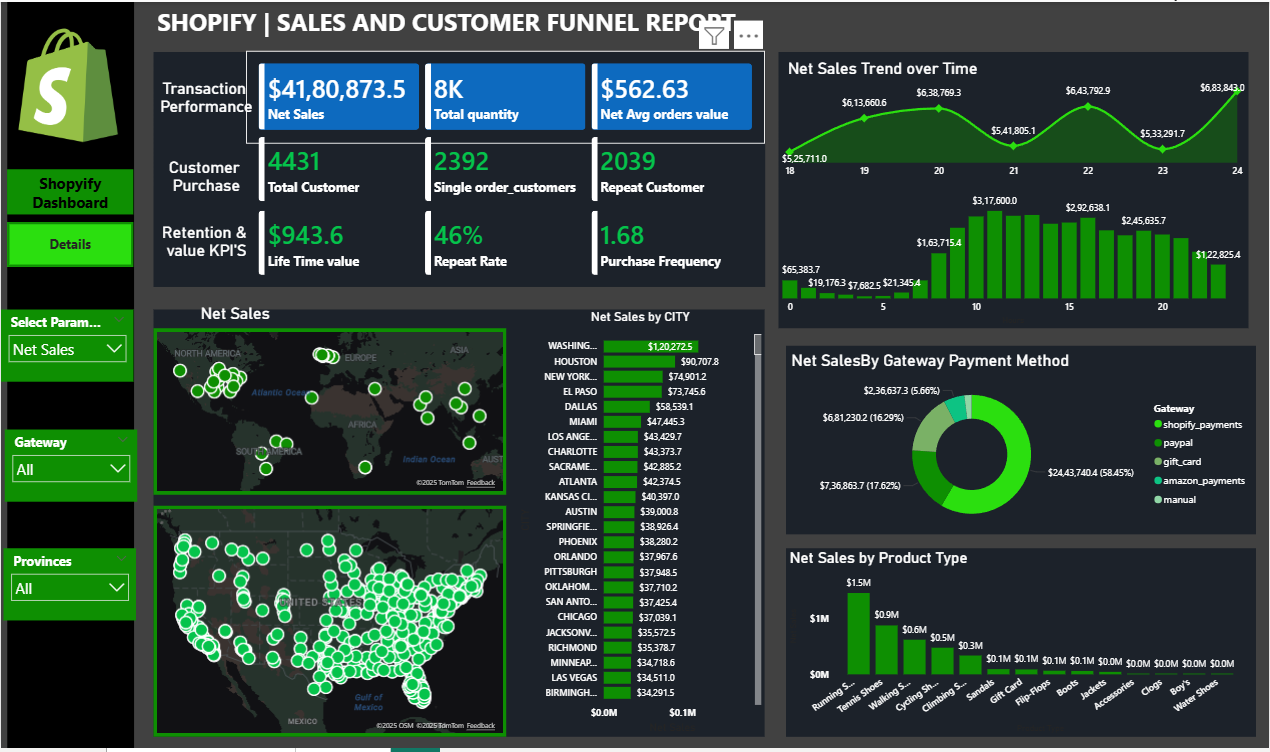

What the dashboard file says about the page in this screenshot:
{"tool":"powerbi","page":{"name":"Shopyify Dashboard","canvas":[1700,1000],"ordinal":0},"visuals":[{"type":"shape","box":[9.1,0,170,1000],"z":0},{"type":"textbox","box":[204.1,0,800.1,67.4],"z":1000},{"type":"shape","box":[204,67,820,315],"z":2000},{"type":"cardVisual","fields":{"Data":["AMeasure.Net Sales","AMeasure.Total quantity","AMeasure.Net Avg orders value"]},"box":[328,65.6,696.2,123.9],"z":3000},{"type":"card","fields":{"Values":["AMeasure.Transaction per"]},"box":[204.1,83.8,142.2,87.5],"z":4000},{"type":"cardVisual","fields":{"Data":["AMeasure.Total Customer","AMeasure.Single order_customers","AMeasure.Repeat Customer"]},"box":[328,164,696.2,120.3],"z":5000},{"type":"card","fields":{"Values":["AMeasure.Customer pur"]},"box":[204.1,189.5,142.2,87.5],"z":6000},{"type":"cardVisual","fields":{"Data":["AMeasure.Life Time value","AMeasure.Repeat Rate","AMeasure.Purchase Frequency"]},"box":[328,262.4,696.2,120.3],"z":7000},{"type":"card","fields":{"Values":["AMeasure.Retention & value KPI'S"]},"box":[204.1,277,142.2,87.5],"z":8000},{"type":"shape","box":[204.4,412.2,819.4,573.1],"z":9000},{"type":"azureMap","fields":{"Category":["shopify_sales.Billing Address Province"]},"box":[204.4,437.3,472.5,222.9],"z":10000},{"type":"slicer","fields":{"Values":["Parameter.Parameter"]},"box":[0,412.2,177.6,97.2],"z":11000},{"type":"azureMap","fields":{"Category":["shopify_sales.Location"]},"box":[204.4,675.3,472.5,310],"z":12000},{"type":"clusteredBarChart","fields":{"Y":["AMeasure.Net Sales"],"Category":["shopify_sales.CITY"]},"box":[690.4,412.2,333.4,573.1],"z":13000},{"type":"shape","box":[1042.2,67,630,370.3],"z":14000},{"type":"card","fields":{"Values":["AMeasure.Trend title"]},"box":[1042.2,67,279.8,43.6],"z":15000},{"type":"areaChart","fields":{"Y":["AMeasure.Net Sales"],"Category":["shopify_sales.Invoice Date.Variation.Date Hierarchy.Day"]},"box":[1042.2,97.2,630,147.5],"z":16000},{"type":"columnChart","fields":{"Y":["AMeasure.Net Sales"],"Category":["shopify_sales.Hours"]},"box":[1042.2,241.3,630,196],"z":17000},{"type":"card","fields":{"Values":["Min(Parameter.Dynamic Title)"]},"box":[181,397.1,266.4,40.2],"z":18000},{"type":"shape","box":[1052.3,732.2,630,253],"z":19000},{"type":"shape","box":[1052.3,460.8,630,253],"z":20000},{"type":"donutChart","fields":{"Y":["AMeasure.Net Sales"],"Category":["shopify_sales.Gateway"]},"box":[1052.3,499.3,630,214.5],"z":21000},{"type":"card","fields":{"Values":["AMeasure.Gateway Title"]},"box":[1042.2,460.8,407.2,38.5],"z":22000},{"type":"columnChart","fields":{"Y":["AMeasure.Net Sales"],"Category":["shopify_sales.Product Type"]},"box":[1052.3,732.2,620,253],"z":23000},{"type":"slicer","fields":{"Values":["shopify_sales.Gateway"]},"box":[5,573.1,177.6,97.2],"z":24000},{"type":"slicer","fields":{"Values":["shopify_sales.Billing Address Province"]},"box":[3.4,732.2,177.6,97.2],"z":25000},{"type":"image","box":[3.4,35.2,174.3,152.5],"z":26000},{"type":"pageNavigator","box":[8.4,224.5,169.2,130.7],"z":27000}]}

Visuals, with their boxes in screenshot pixels (x1, y1, x2, y2), scaled from the page's 1700x1000 canvas onto the 1270x752 screenshot:
shape: box=[7, 0, 134, 751]
textbox: box=[152, 0, 750, 51]
shape: box=[152, 50, 765, 287]
cardVisual - AMeasure.Net Sales x AMeasure.Total quantity: box=[245, 49, 765, 143]
card - AMeasure.Transaction per: box=[152, 63, 259, 129]
cardVisual - AMeasure.Total Customer x AMeasure.Single order_customers: box=[245, 123, 765, 214]
card - AMeasure.Customer pur: box=[152, 143, 259, 208]
cardVisual - AMeasure.Life Time value x AMeasure.Repeat Rate: box=[245, 197, 765, 288]
card - AMeasure.Retention & value KPI'S: box=[152, 208, 259, 274]
shape: box=[153, 310, 765, 741]
azureMap - shopify_sales.Billing Address Province: box=[153, 329, 506, 496]
slicer - Parameter.Parameter: box=[0, 310, 133, 383]
azureMap - shopify_sales.Location: box=[153, 508, 506, 741]
clusteredBarChart - AMeasure.Net Sales x shopify_sales.CITY: box=[516, 310, 765, 741]
shape: box=[779, 50, 1249, 329]
card - AMeasure.Trend title: box=[779, 50, 988, 83]
areaChart - AMeasure.Net Sales x shopify_sales.Invoice Date.Variation.Date Hierarchy.Day: box=[779, 73, 1249, 184]
columnChart - AMeasure.Net Sales x shopify_sales.Hours: box=[779, 181, 1249, 329]
card - Min(Parameter.Dynamic Title): box=[135, 299, 334, 329]
shape: box=[786, 551, 1257, 741]
shape: box=[786, 347, 1257, 537]
donutChart - AMeasure.Net Sales x shopify_sales.Gateway: box=[786, 375, 1257, 537]
card - AMeasure.Gateway Title: box=[779, 347, 1083, 375]
columnChart - AMeasure.Net Sales x shopify_sales.Product Type: box=[786, 551, 1249, 741]
slicer - shopify_sales.Gateway: box=[4, 431, 136, 504]
slicer - shopify_sales.Billing Address Province: box=[3, 551, 135, 624]
image: box=[3, 26, 133, 141]
pageNavigator: box=[6, 169, 133, 267]
